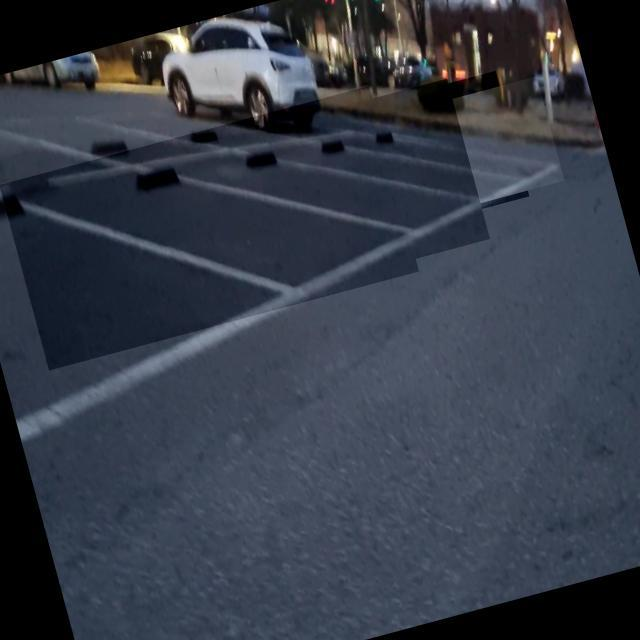empty: (0, 85, 419, 370), (142, 78, 490, 320), (231, 70, 529, 266), (326, 75, 564, 236)
